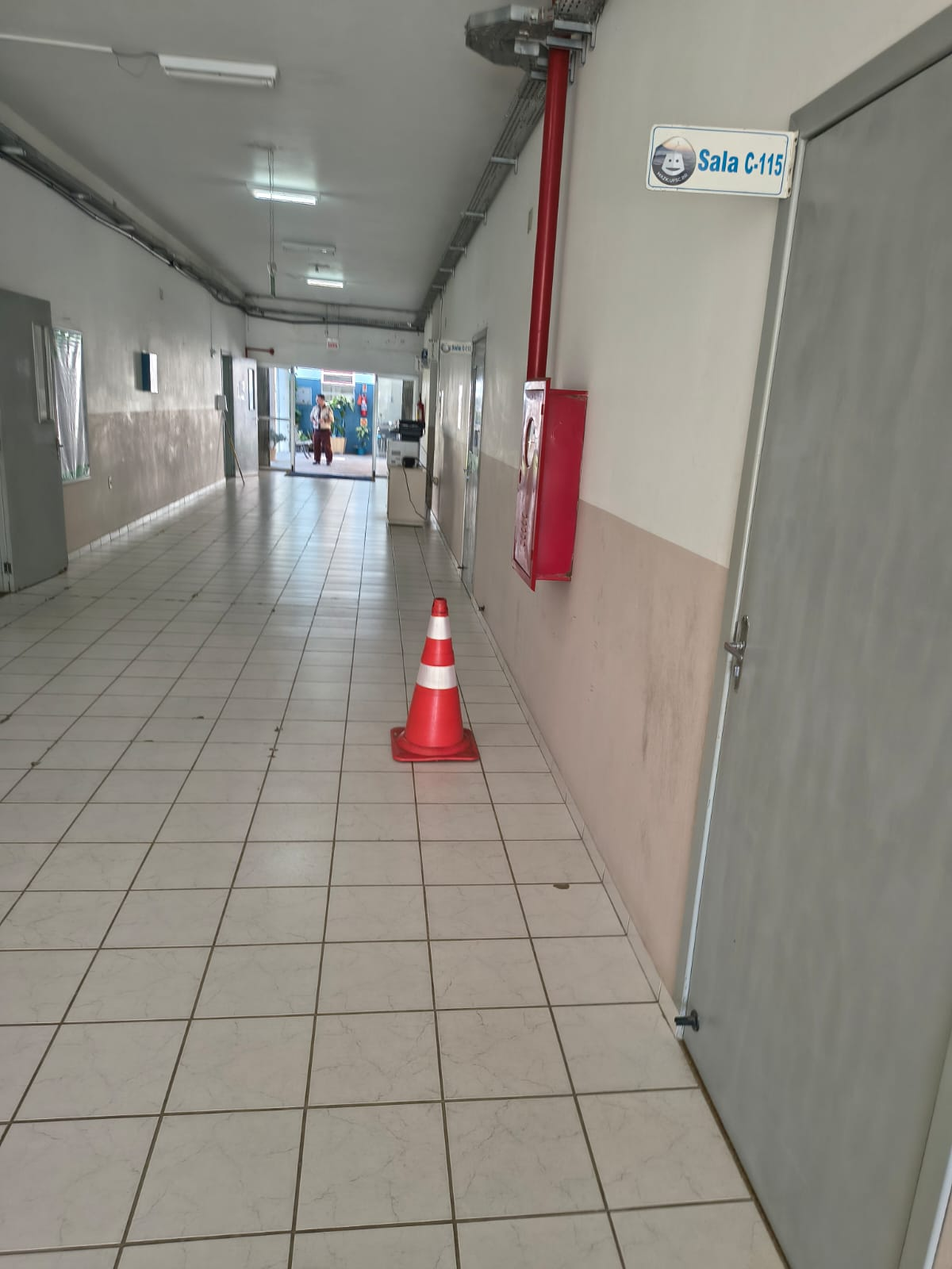cone: (386, 601, 482, 770)
